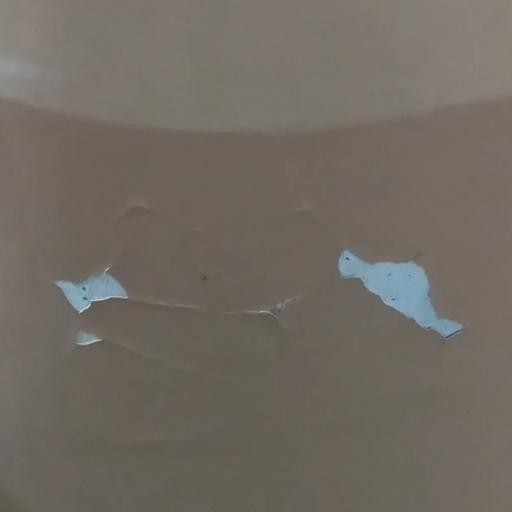peeling: (52, 227, 303, 374), (331, 231, 479, 352)
